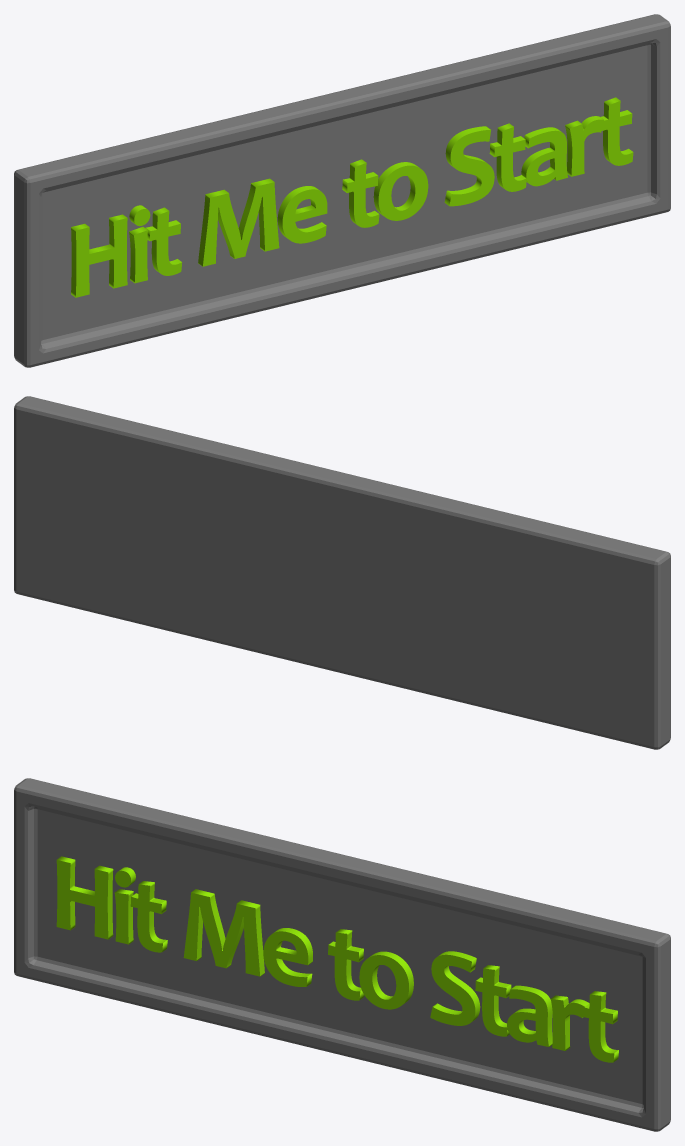
File: start_game_text.dae
The picture shows the model from 3 angles, top to bottom: view 1: azimuth 30°, elevation 25°; view 2: azimuth 150°, elevation 25°; view 3: azimuth 330°, elevation 25°; orthographic projection.
Parts seen in each view (by area): view 1: backing, start game text; view 2: backing; view 3: backing, start game text.
Boxes of the visible parts, <box> form: backing: <box>14,14,670,367</box>; start game text: <box>71,97,633,297</box>; backing: <box>14,396,670,749</box>; backing: <box>14,778,670,1131</box>; start game text: <box>56,856,618,1062</box>.
Size of what is drawn, in the model's own units: 7.8 by 0.35 by 2.2.
